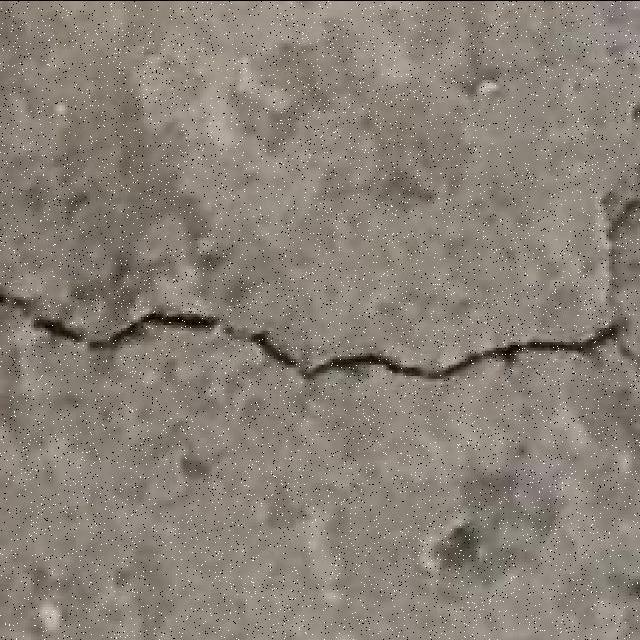crack: (1, 291, 622, 382), (436, 440, 632, 604), (12, 291, 220, 351), (551, 181, 634, 287)
